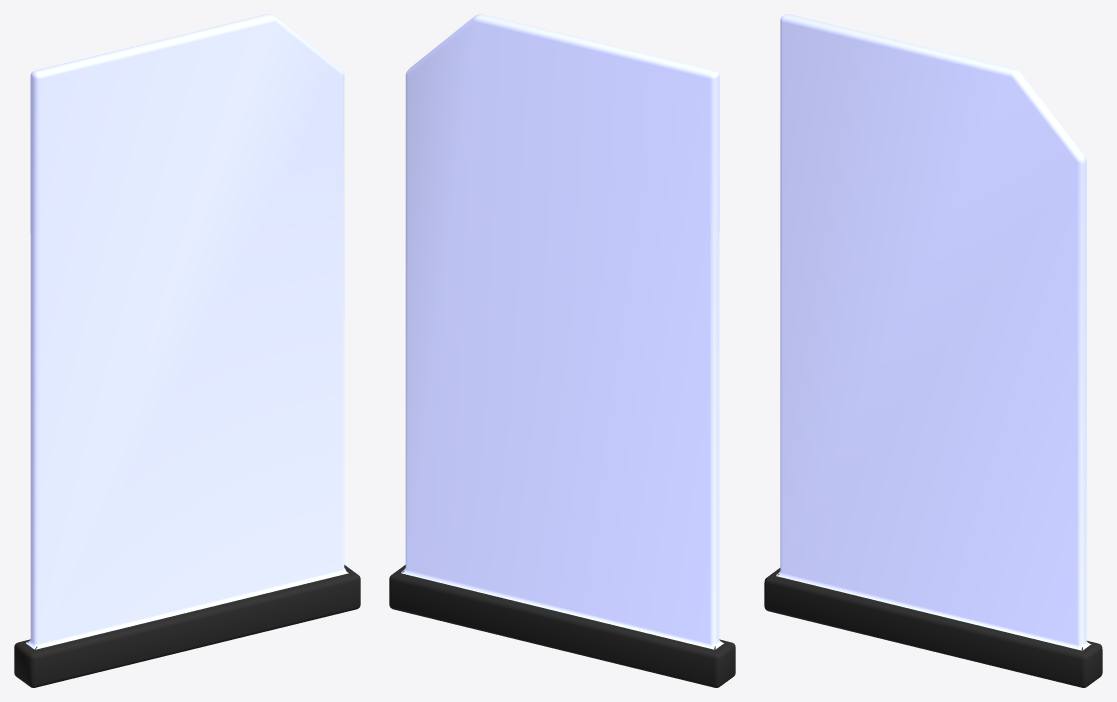
The model's file is Stand.fbx.
The picture shows the model from 3 angles, left to right: view 1: azimuth 30°, elevation 25°; view 2: azimuth 150°, elevation 25°; view 3: azimuth 330°, elevation 25°; orthographic projection. The views are drawn at different scales.
Parts seen in each view (by area): view 1: Stand; view 2: Stand; view 3: Stand.
Part boxes in pixels (<box>): Stand: <box>14,14,360,687</box>; Stand: <box>389,14,735,687</box>; Stand: <box>764,14,1102,687</box>.
Bounding box in the file's own units: 303 × 532 × 30.32.
